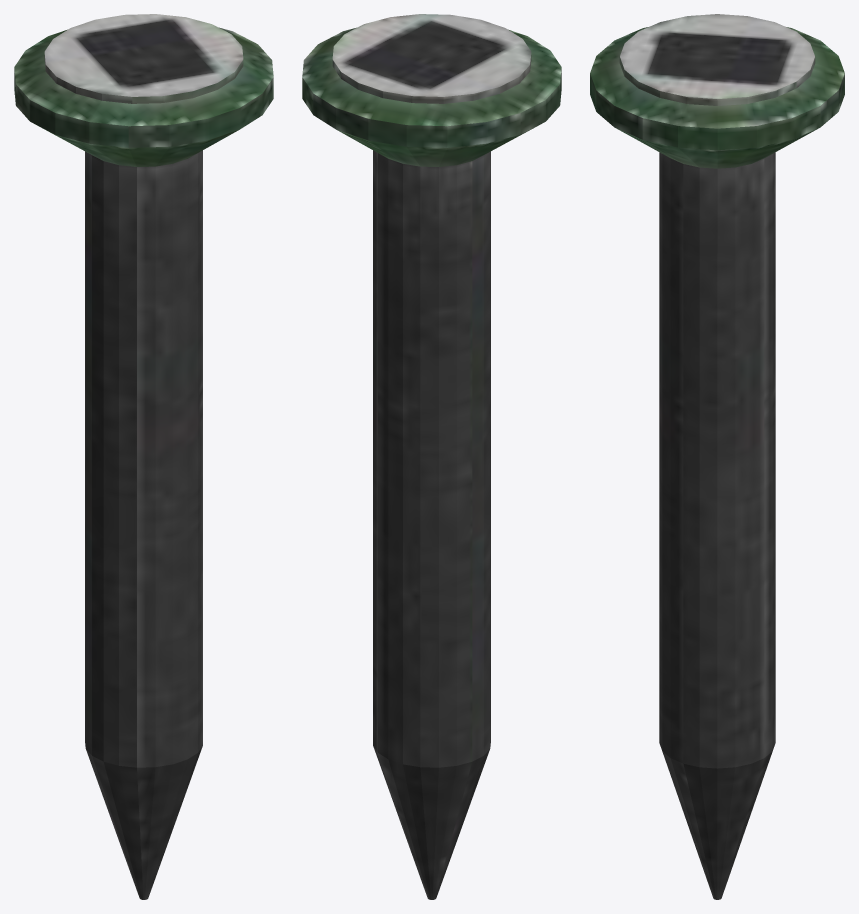
Rendered from pest repellent.fbx.
3 renders of one model, left to right at view 1: azimuth 30°, elevation 25°; view 2: azimuth 150°, elevation 25°; view 3: azimuth 270°, elevation 25°, orthographic.
Parts seen in each view (by area): view 1: pest repellent; view 2: pest repellent; view 3: pest repellent.
Boxes of the visible parts, bbox=[...] form: pest repellent: bbox=[14, 14, 273, 899]; pest repellent: bbox=[302, 14, 561, 899]; pest repellent: bbox=[590, 14, 844, 899].
Size of the model in its own units: 285 by 1007 by 276.
